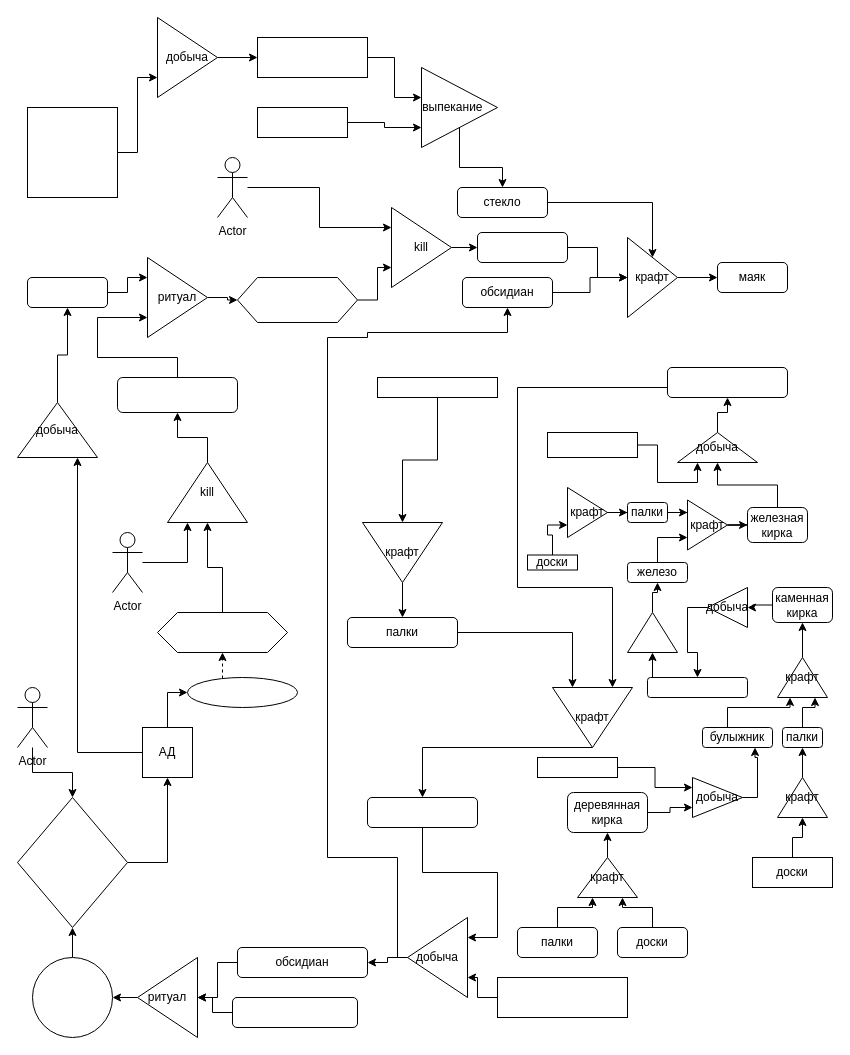
Image size: 850x1055. Some labels were removed from this diagram. The shapes that lost their labels are listed below. From the top down, each one's centre as x and y in pixels, then its label:
pixel 312 57: песок
pixel 302 122: топливо
pixel 72 152: любой земной биом (не ад и не край)
pixel 522 247: nither star
pixel 67 292: песок душ
pixel 297 299: исушитель
pixel 177 394: черный череп
pixel 437 387: дерево
pixel 727 382: алмазы
pixel 592 445: алмазная руда
pixel 222 632: скелет-исушитель
pixel 652 632: bake
pixel 242 692: обитает в АДу
pixel 697 687: железная руда
pixel 577 767: камень
pixel 422 812: алмазная кирка
pixel 72 862: пройхождение через портал
pixel 72 997: портал
pixel 295 1012: огниво
pixel 562 997: блок обсидиана
